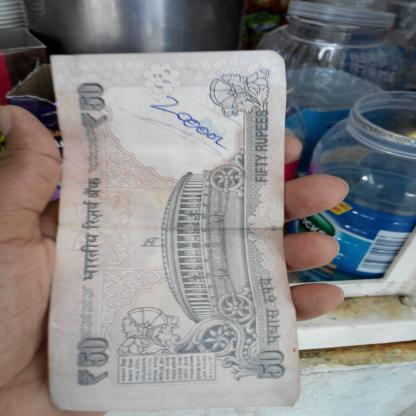Old50Back: (48, 49, 300, 411)
